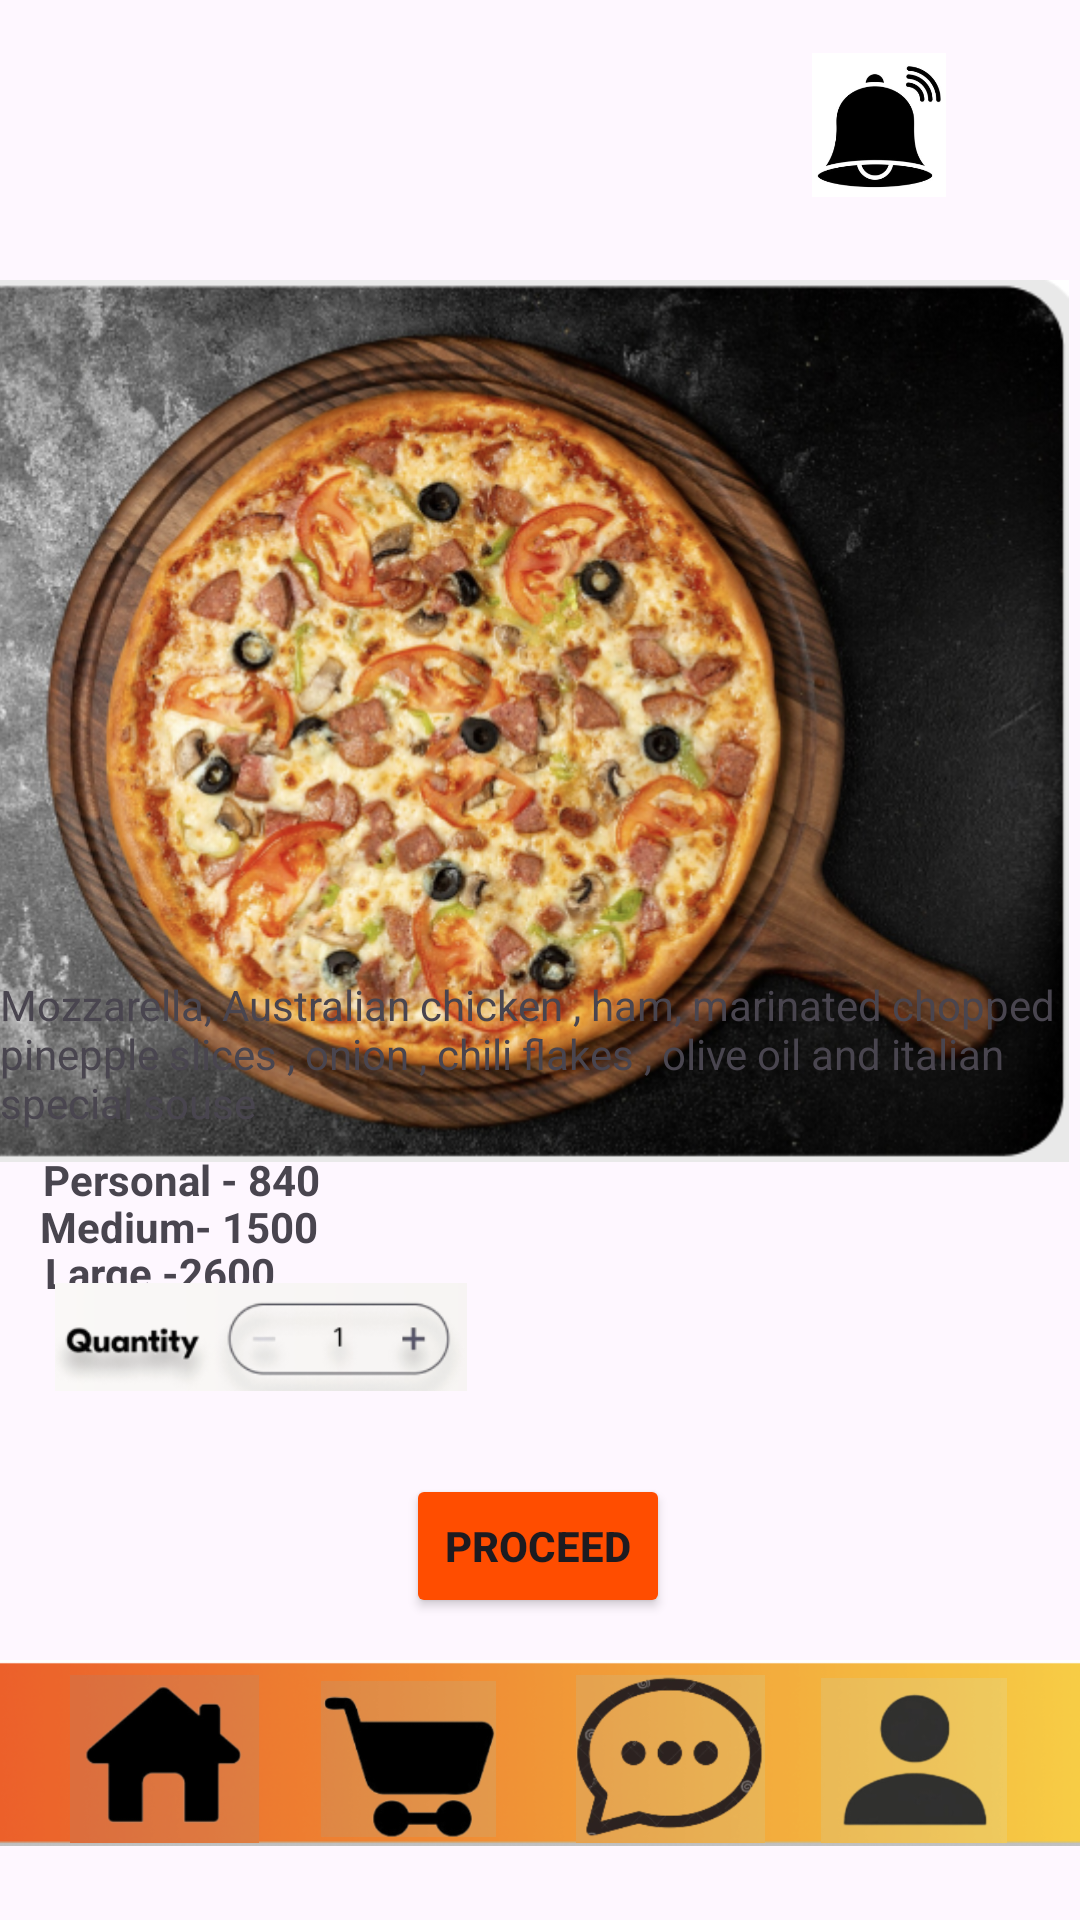

Screen size 1080px x 1920px. Icon name, then its center in pixels as (x,y):
go to account page: (914,1760)
go to cart page: (384,1759)
go to chat page: (670,1759)
go to home page: (164,1759)
go to notification page: (879,126)
